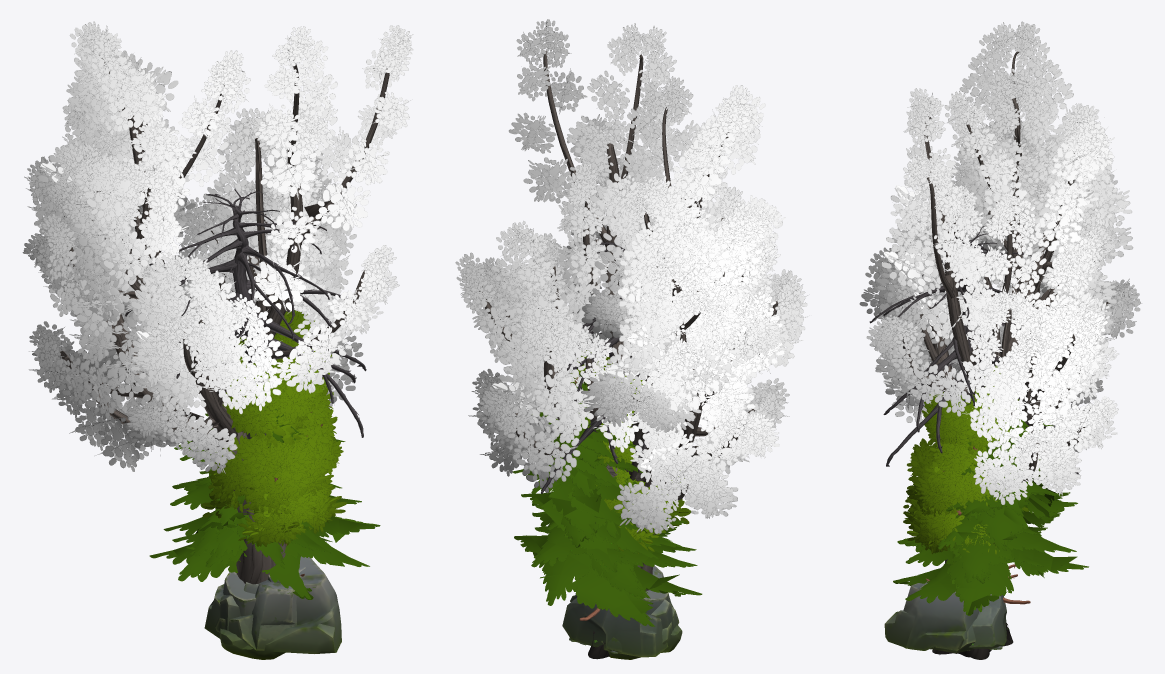
Rendered from flora.glb.
3 views of the same model, side by side, from view 1: azimuth 30°, elevation 25°; view 2: azimuth 150°, elevation 25°; view 3: azimuth 270°, elevation 25° (orthographic). The views are drawn at different scales.
Parts seen in each view (by area): view 1: F_TwistedTree_2_L0, F_CommonTree_3_L0, F_CommonTree_1_L0, F_Pine_5_L0, F_DeadTree_3_L0, F_Rock_Medium_3_L0, F_Rock_Medium_1_L0, F_Pine_5_L1, F_CommonTree_4_L0, F_Pine_1_L0, F_TwistedTree_2_L1, F_Rock_Medium_2_L0 (+3 smaller); view 2: F_TwistedTree_2_L0, F_Pine_5_L0, F_Pine_5_L1, F_Rock_Medium_2_L0, F_TwistedTree_2_L1, F_CommonTree_1_L0, F_Pine_1_L0, F_DeadTree_3_L0, F_Rock_Medium_1_L0, F_Rock_Medium_3_L0, F_CommonTree_3_L0; view 3: F_TwistedTree_2_L0, F_Pine_5_L0, F_Rock_Medium_3_L0, F_CommonTree_3_L0, F_CommonTree_1_L0, F_CommonTree_4_L0, F_TwistedTree_2_L1, F_DeadTree_3_L0, F_Pine_5_L1, F_Pine_1_L0, F_Rock_Medium_2_L0, F_Pine_1_L1.
Part boxes in pixels (<box>): F_TwistedTree_2_L0: <box>22,21,413,584</box>; F_CommonTree_3_L0: <box>214,314,343,545</box>; F_CommonTree_1_L0: <box>202,407,346,546</box>; F_Pine_5_L0: <box>149,413,379,599</box>; F_DeadTree_3_L0: <box>125,188,366,439</box>; F_Rock_Medium_3_L0: <box>220,556,341,659</box>; F_Rock_Medium_1_L0: <box>215,567,305,650</box>; F_Pine_5_L1: <box>172,343,380,599</box>; F_CommonTree_4_L0: <box>226,311,333,436</box>; F_Pine_1_L0: <box>172,409,340,576</box>; F_TwistedTree_2_L1: <box>40,71,353,513</box>; F_Rock_Medium_2_L0: <box>204,572,256,638</box>; F_TwistedTree_2_L0: <box>455,19,808,659</box>; F_Pine_5_L0: <box>512,377,701,626</box>; F_Pine_5_L1: <box>514,374,701,613</box>; F_Rock_Medium_2_L0: <box>562,590,668,657</box>; F_TwistedTree_2_L1: <box>489,54,750,657</box>; F_CommonTree_1_L0: <box>595,466,690,553</box>; F_Pine_1_L0: <box>534,469,697,620</box>; F_DeadTree_3_L0: <box>541,230,664,493</box>; F_Rock_Medium_1_L0: <box>576,565,679,659</box>; F_Rock_Medium_3_L0: <box>570,590,682,652</box>; F_CommonTree_3_L0: <box>570,350,671,533</box>; F_TwistedTree_2_L0: <box>859,21,1141,659</box>; F_Pine_5_L0: <box>893,408,1088,615</box>; F_Rock_Medium_3_L0: <box>884,581,979,650</box>; F_CommonTree_3_L0: <box>905,386,1018,552</box>; F_CommonTree_1_L0: <box>903,445,1028,554</box>; F_CommonTree_4_L0: <box>921,365,1009,472</box>; F_TwistedTree_2_L1: <box>883,83,1132,654</box>; F_DeadTree_3_L0: <box>870,226,1079,657</box>; F_Pine_5_L1: <box>893,399,1077,615</box>; F_Pine_1_L0: <box>904,437,1047,604</box>; F_Rock_Medium_2_L0: <box>969,594,1006,648</box>; F_Pine_1_L1: <box>906,507,1047,583</box>.
Size of the model in its own units: 10.56 by 19.11 by 9.2.
44 materials, 44 textured.
